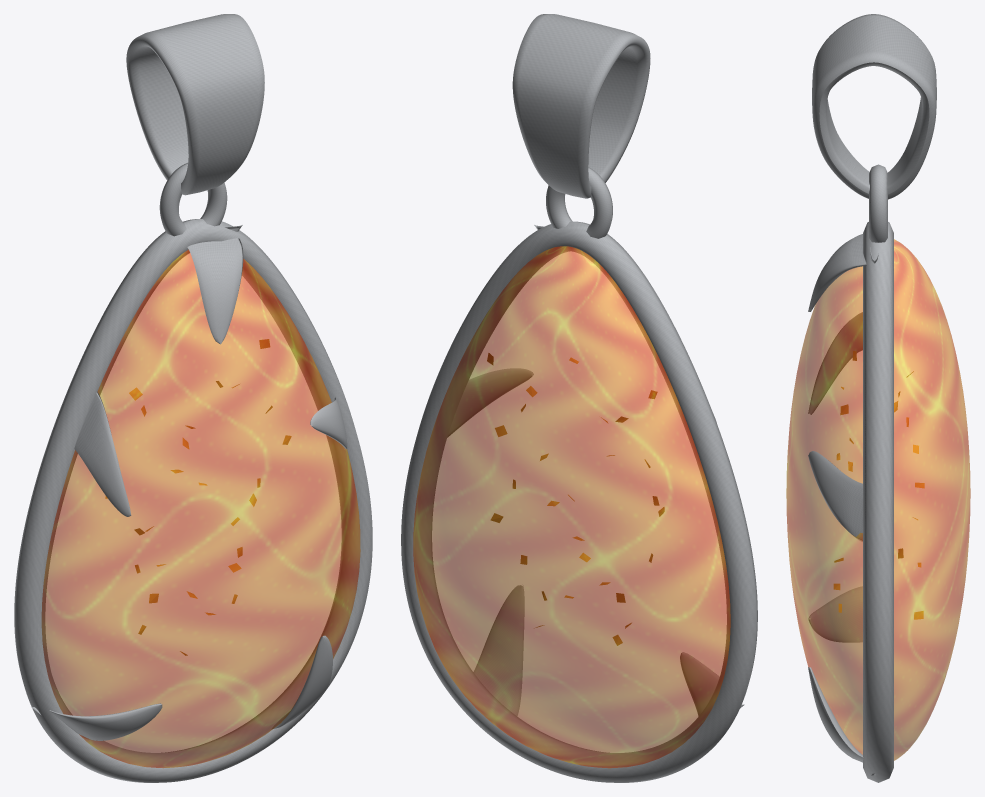
Rendered from emberite_pendant.glb.
The picture shows the model from 3 angles, left to right: view 1: azimuth 30°, elevation 25°; view 2: azimuth 150°, elevation 25°; view 3: azimuth 270°, elevation 25°; orthographic projection. The views are drawn at different scales.
Visible parts, largest first — view 1: Polished translucent fire amber emberite, Antique bright silver, Suspended gold orange ember mineral feathers; view 2: Polished translucent fire amber emberite, Antique bright silver, Suspended gold orange ember mineral feathers; view 3: Polished translucent fire amber emberite, Antique bright silver, Suspended gold orange ember mineral feathers.
Boxes of the visible parts, left/top/right/bottom form: Polished translucent fire amber emberite: left=41, top=250, right=360, bottom=767; Antique bright silver: left=14, top=14, right=372, bottom=782; Suspended gold orange ember mineral feathers: left=105, top=339, right=291, bottom=655; Polished translucent fire amber emberite: left=413, top=246, right=730, bottom=768; Antique bright silver: left=401, top=14, right=757, bottom=782; Suspended gold orange ember mineral feathers: left=487, top=353, right=664, bottom=645; Polished translucent fire amber emberite: left=786, top=239, right=970, bottom=760; Antique bright silver: left=808, top=14, right=936, bottom=782; Suspended gold orange ember mineral feathers: left=834, top=351, right=924, bottom=619.
Bounding box in the file's own units: 0.0198 × 0.0403 × 0.0092.
3 materials, 2 textured.
